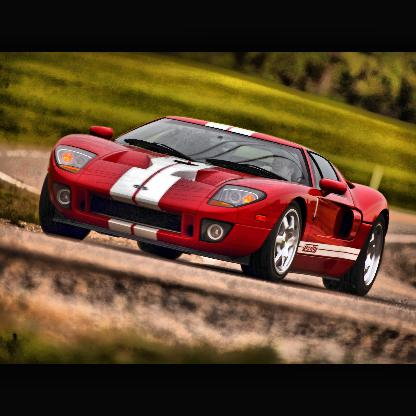Ford GT Coupe 2006: (38, 116, 390, 299)
